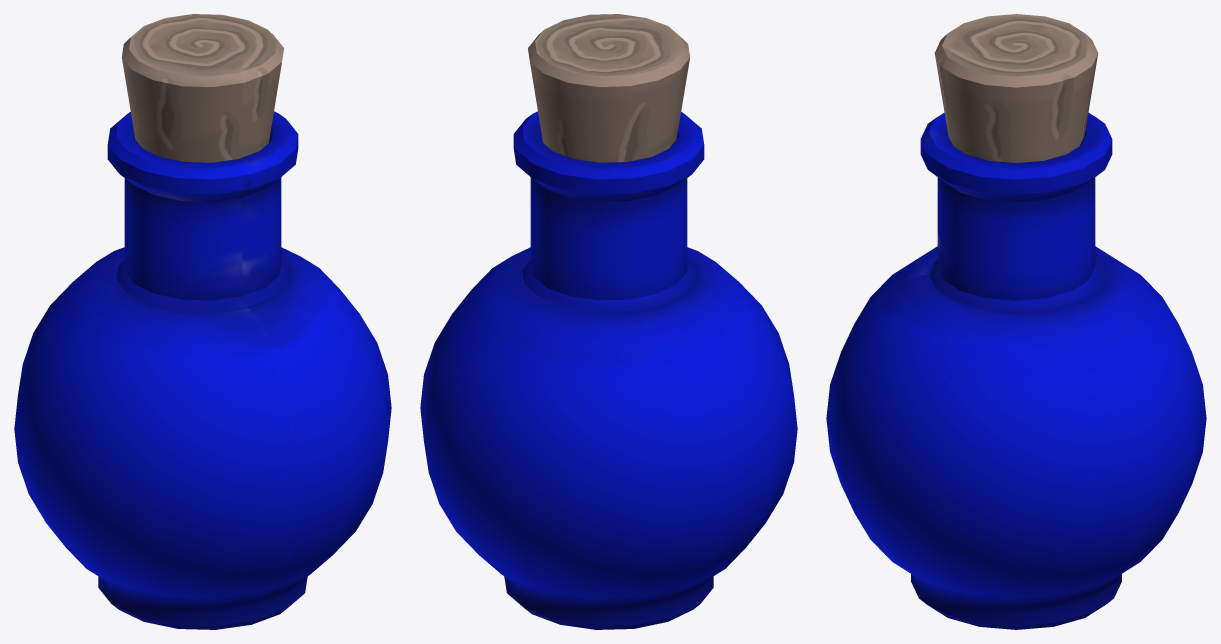
File: BluePotion.fbx
The picture shows the model from 3 angles, left to right: view 1: azimuth 30°, elevation 25°; view 2: azimuth 150°, elevation 25°; view 3: azimuth 270°, elevation 25°; orthographic projection.
Visible parts, largest first — view 1: BluePotion; view 2: BluePotion; view 3: BluePotion.
Part boxes in pixels (x1=…): BluePotion: x1=14, y1=14, x2=391, y2=629; BluePotion: x1=420, y1=14, x2=797, y2=629; BluePotion: x1=826, y1=14, x2=1206, y2=629.
Size of the model in its own units: 40 by 40 by 63.09.
Materials: 1 (1 with a texture image).
